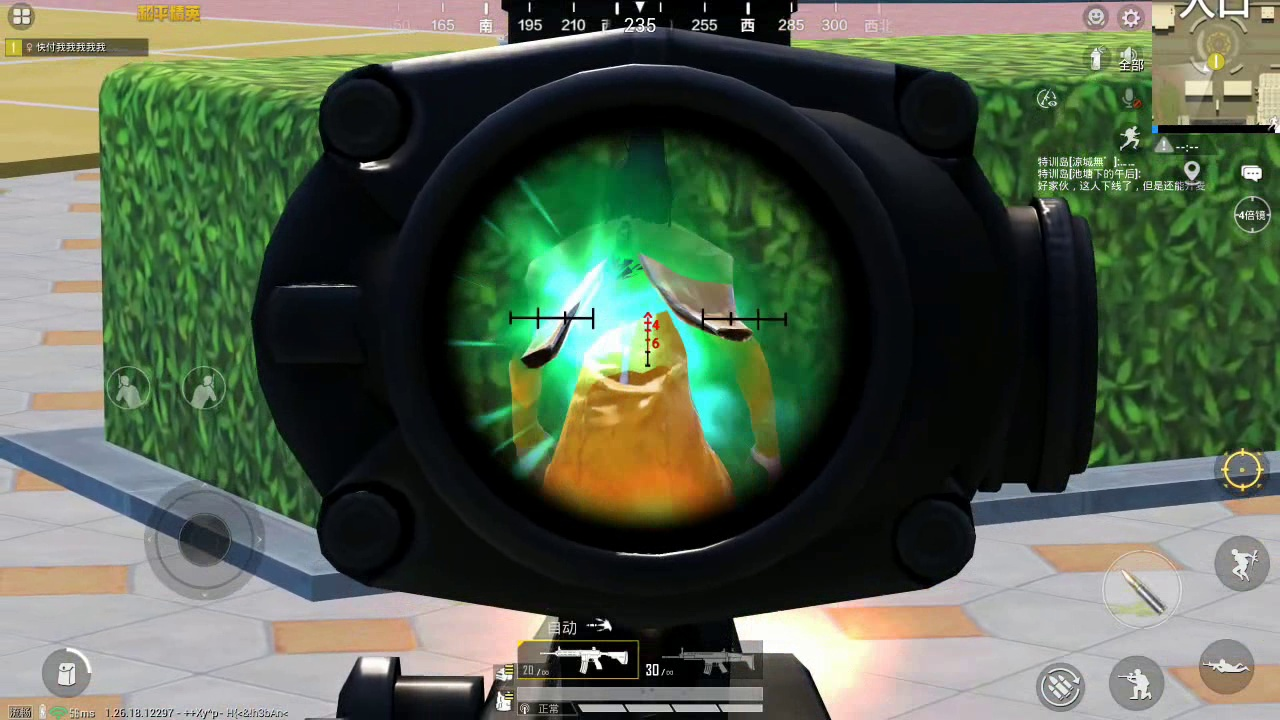enemy: (511, 135, 783, 487)
